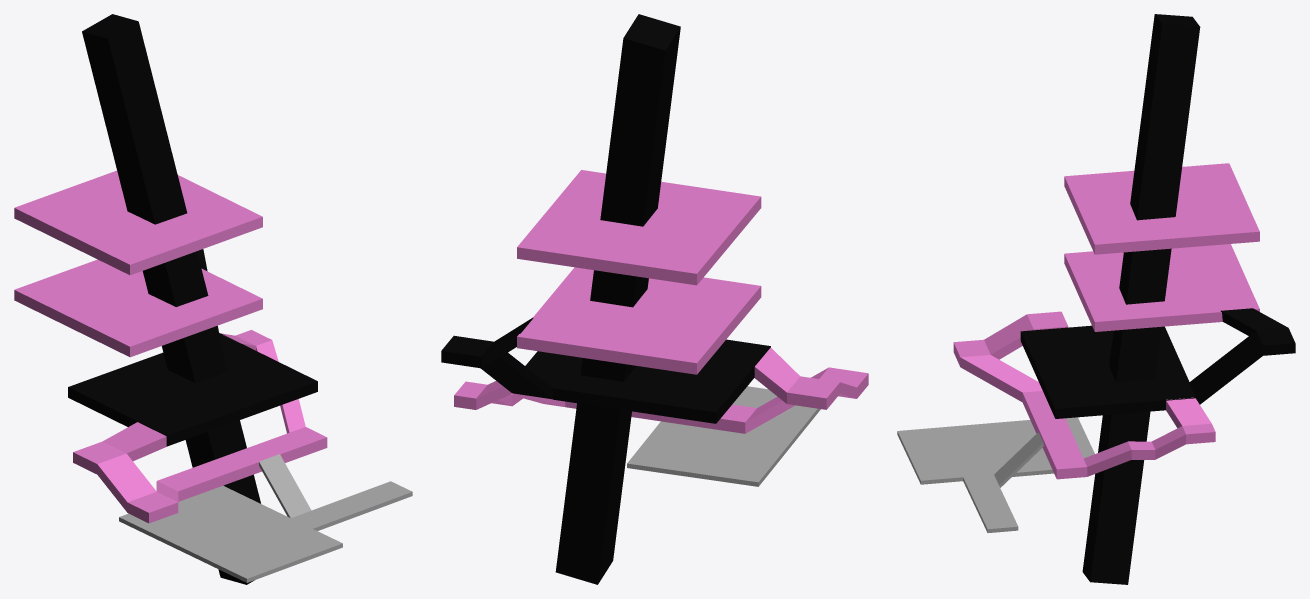
3 views of the same model, side by side, from view 1: azimuth 30°, elevation 25°; view 2: azimuth 150°, elevation 25°; view 3: azimuth 270°, elevation 25° (orthographic). The views are drawn at different scales.
Parts seen in each view (by area): view 1: pCube11, pCube1, pCube3, pCube12, pCube5, pCube2; view 2: pCube11, pCube12, pCube5, pCube3, pCube1, pCube2; view 3: pCube11, pCube3, pCube12, pCube5, pCube2, pCube1.
Part boxes in pixels (x1,y1,x2,y2): pCube11: (82,14,260,584); pCube1: (119,454,412,582); pCube3: (68,249,317,446); pCube12: (14,170,262,275); pCube5: (14,259,262,357); pCube2: (73,330,327,523); pCube11: (555,14,680,584); pCube12: (517,170,761,285); pCube5: (517,267,761,374); pCube3: (441,317,770,423); pCube1: (627,386,820,486); pCube2: (454,347,868,433); pCube11: (1082,14,1200,584); pCube3: (1020,308,1295,418); pCube12: (1064,163,1259,254); pCube5: (1064,244,1259,331); pCube2: (953,311,1215,479); pCube1: (897,417,1094,532).
Size of the model in its own units: 8.39 by 14.79 by 10.2.
